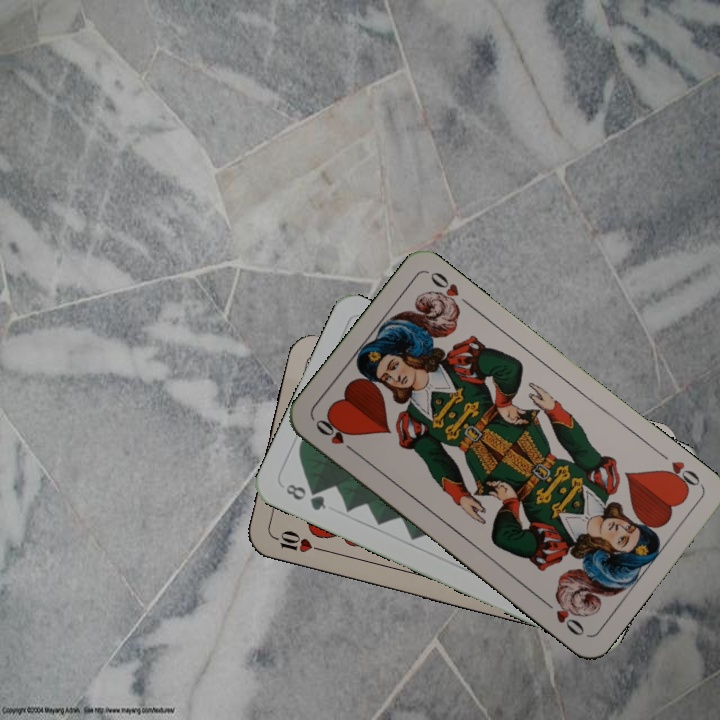G8: (281, 480, 329, 513)
H10: (267, 526, 326, 556)
HO: (311, 414, 361, 457), (657, 456, 705, 495)
